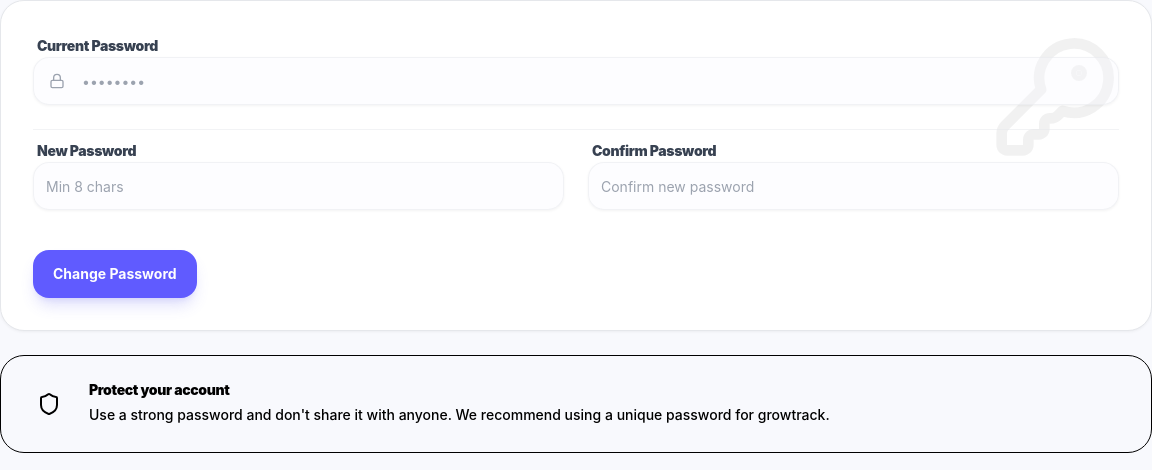
Test: UpdatePasswordForm › désactive le bouton pendant le chargement
Type "abc12345678" into the password field with placeholder "Min 8 chars" at (298, 186), box [33, 162, 564, 210]
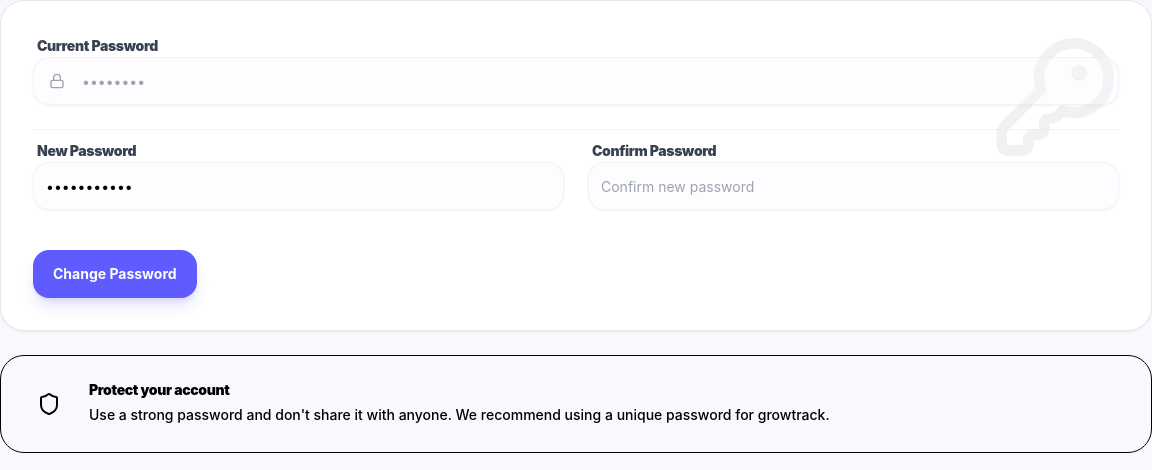
Type "abc12345678" into the password field with placeholder "Confirm new password" at (854, 186), box [588, 162, 1119, 210]
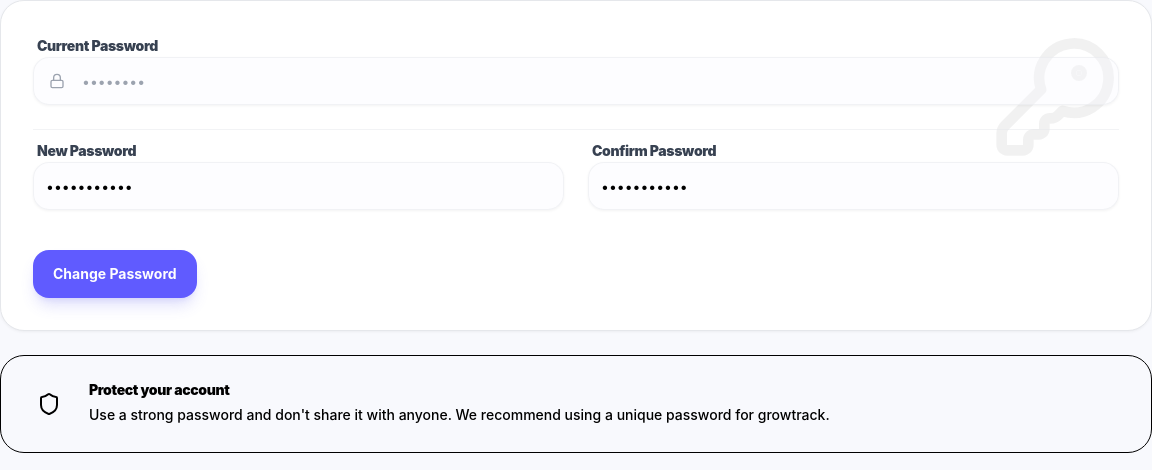
Click the button "Change Password" at (115, 274), box [33, 250, 197, 298]
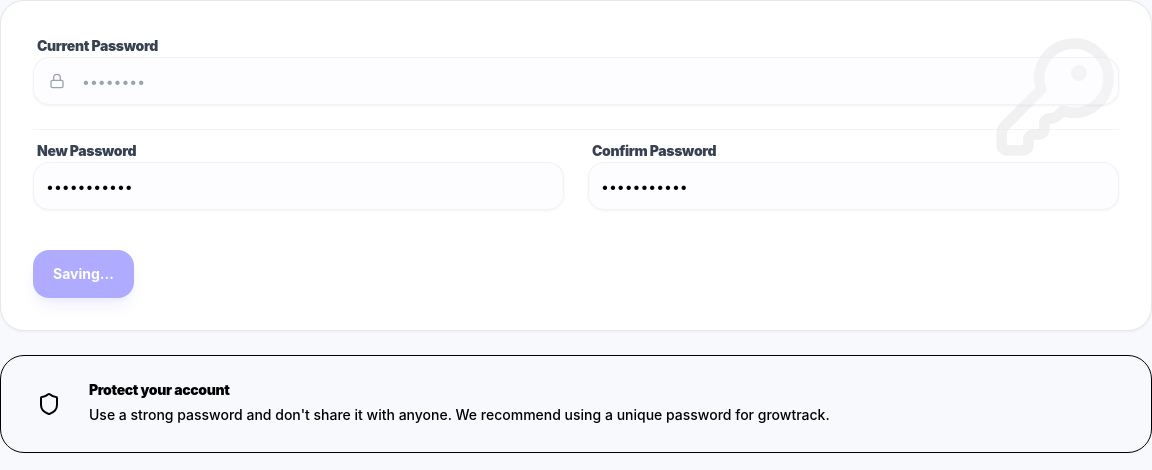
Expected: the button named "Change Password" is disabled, [33, 250, 134, 298]
Expected: the button named "Change Password" reads "Saving...", [33, 250, 134, 298]
